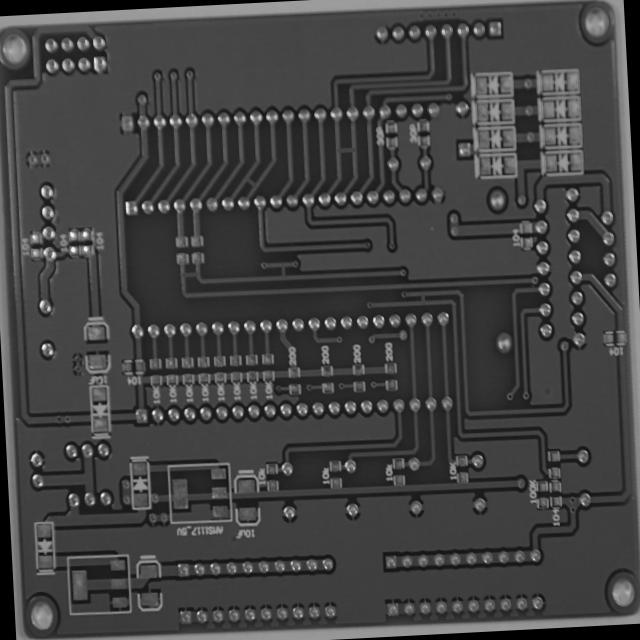short: (174, 264, 208, 284), (332, 140, 358, 162), (240, 173, 260, 192), (414, 287, 431, 309), (274, 260, 290, 281)
